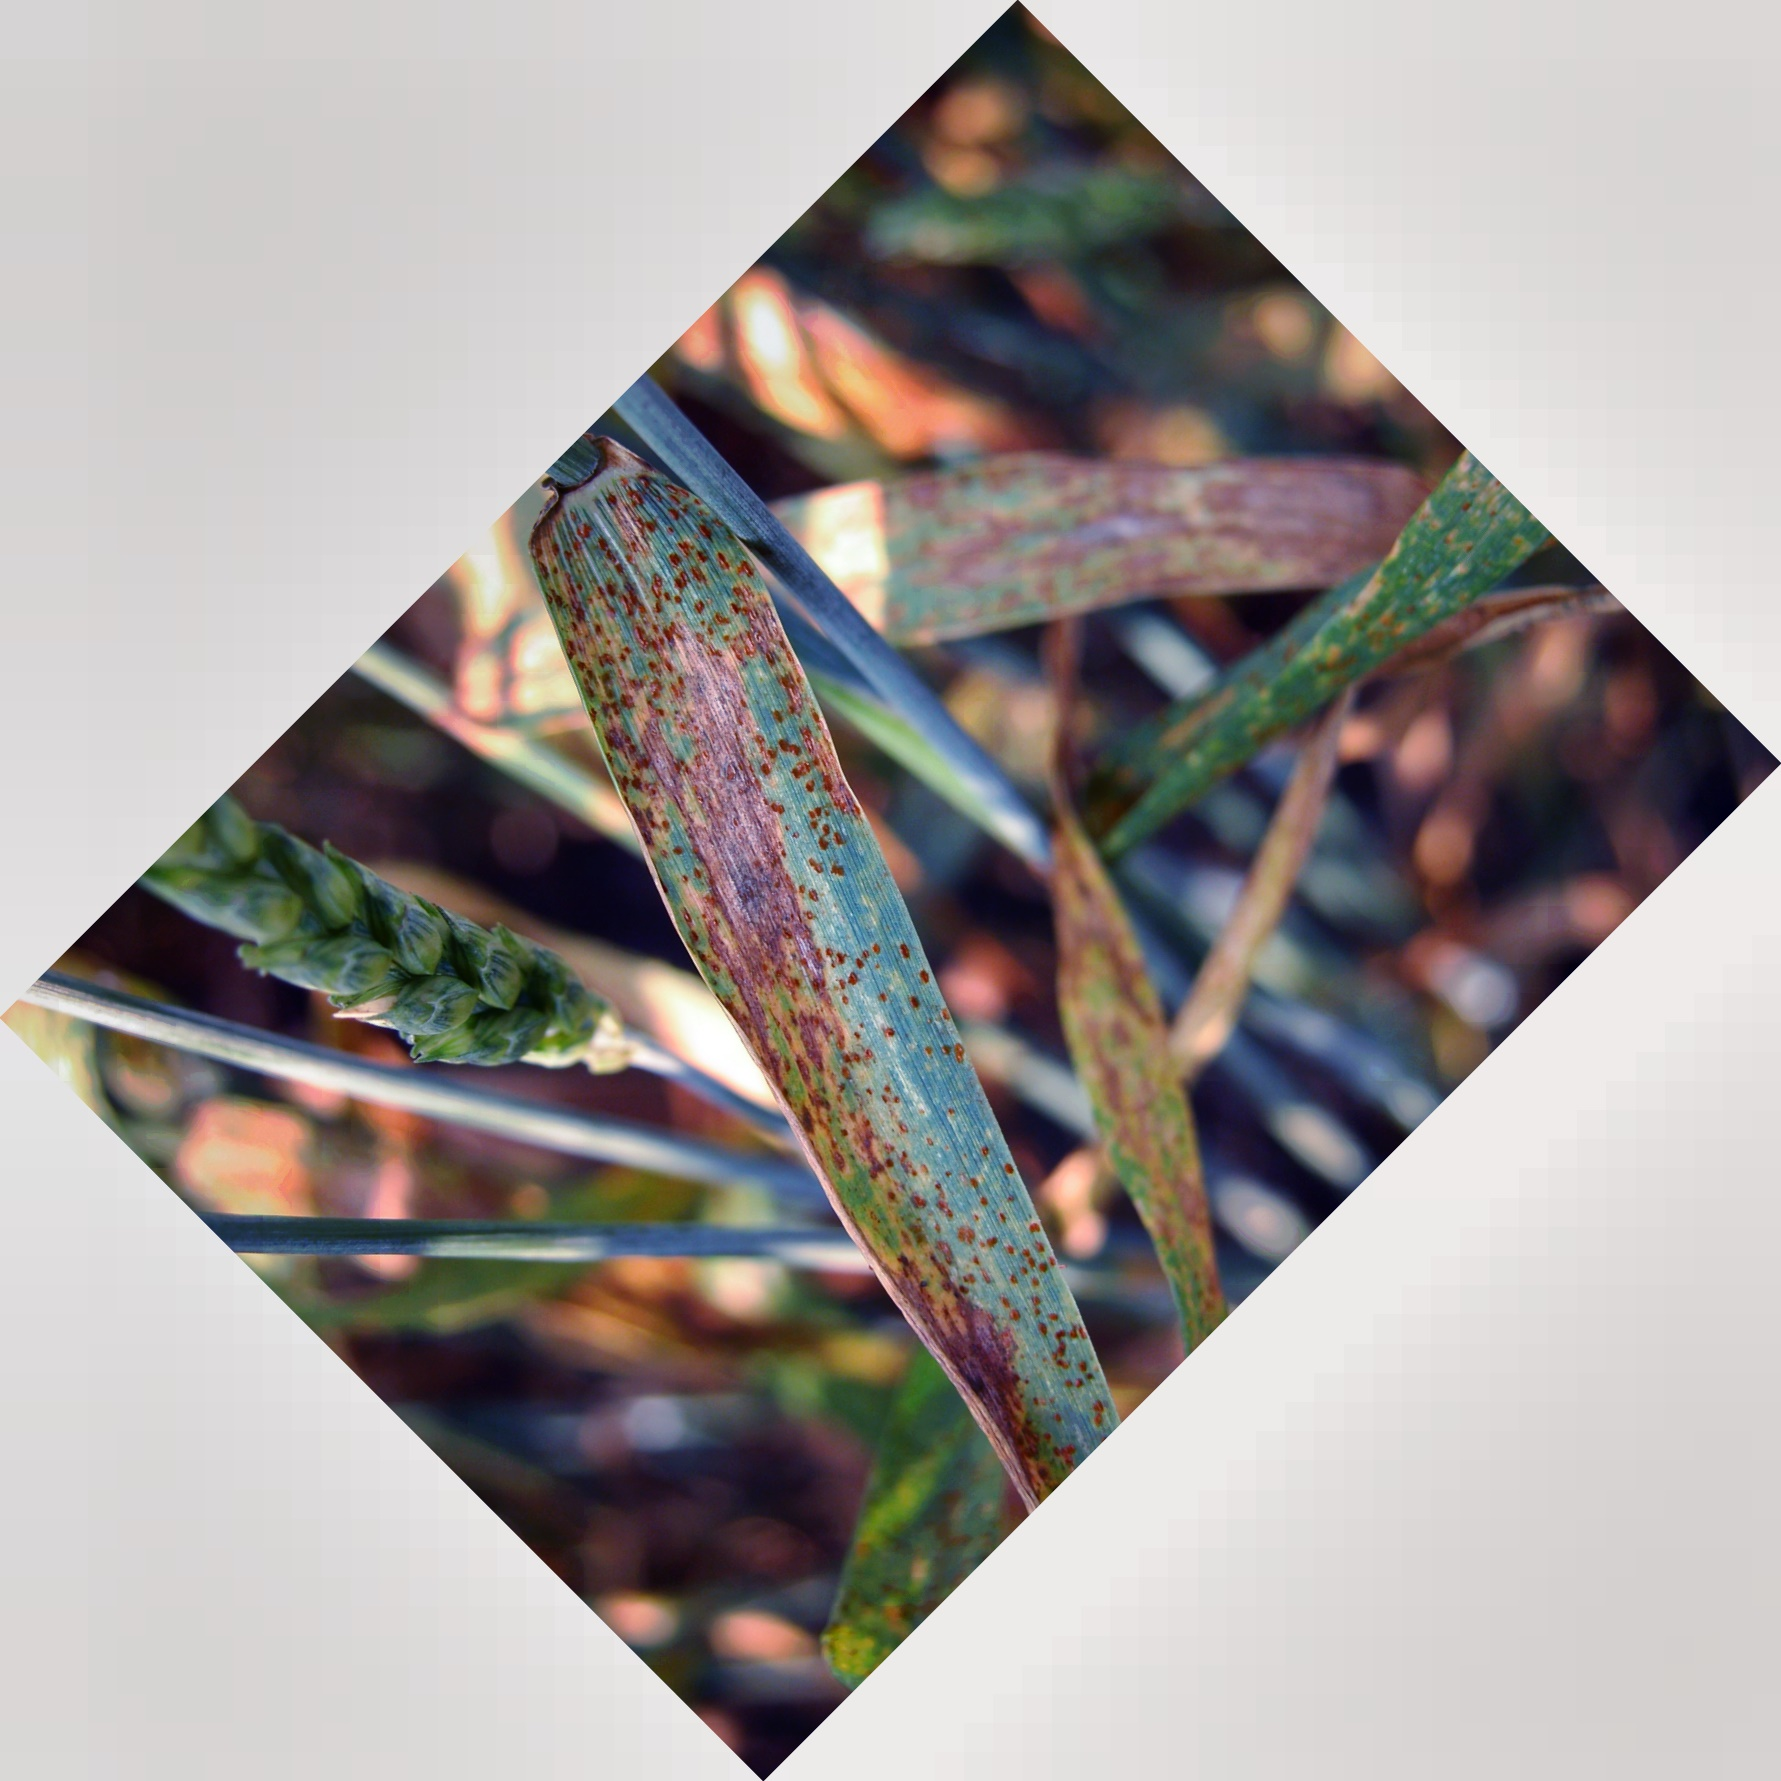Leaf Rust: (566, 525, 1075, 1425)
